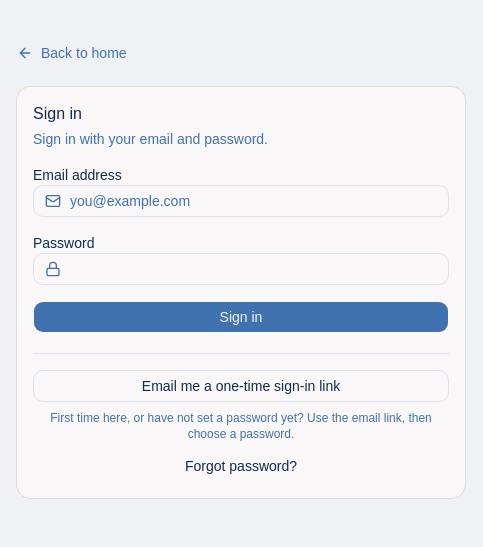
Login: password sign-in › shows a safe message for {"code":"unexpected_failure","status":500,"message":"internal detail"}
Type "person@example.test" into the field labelled "Email address" at (241, 200), box 33,184 -> 449,216
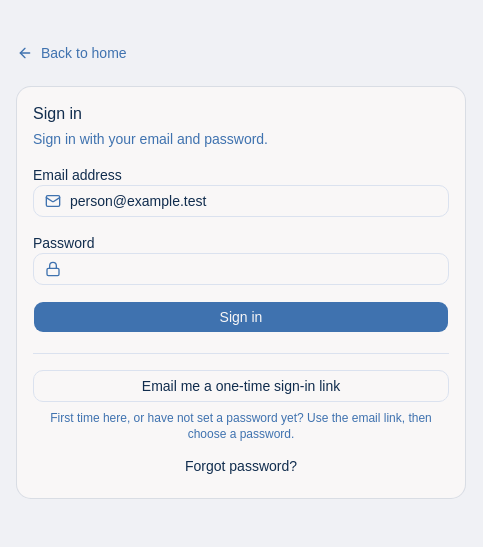
Type "wrong password" into the password field labelled "Password" at (241, 268), box 33,252 -> 449,284
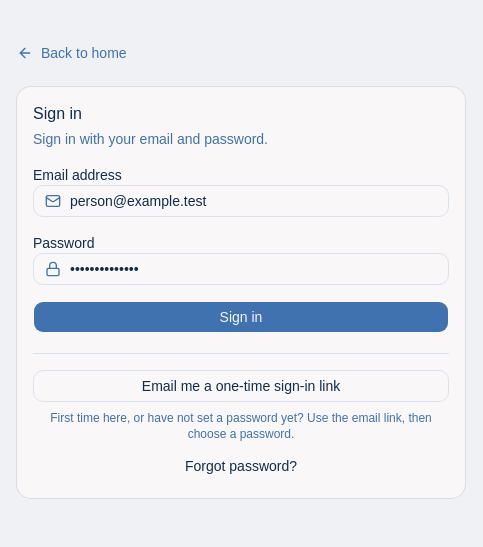
Click the button "Sign in" at (241, 316), box 33,300 -> 449,332
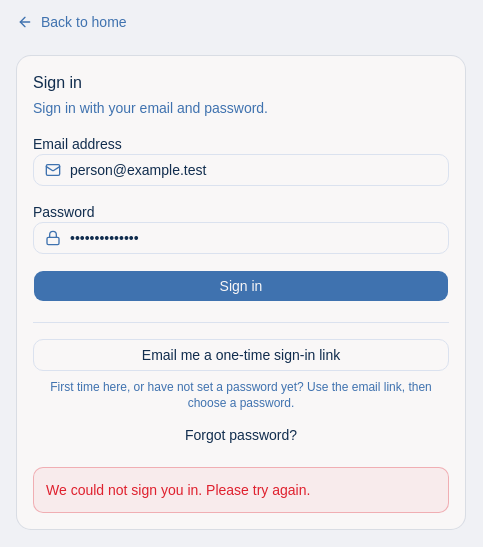
Now the message shows "We could not sign you in", box 46,482 -> 310,498
